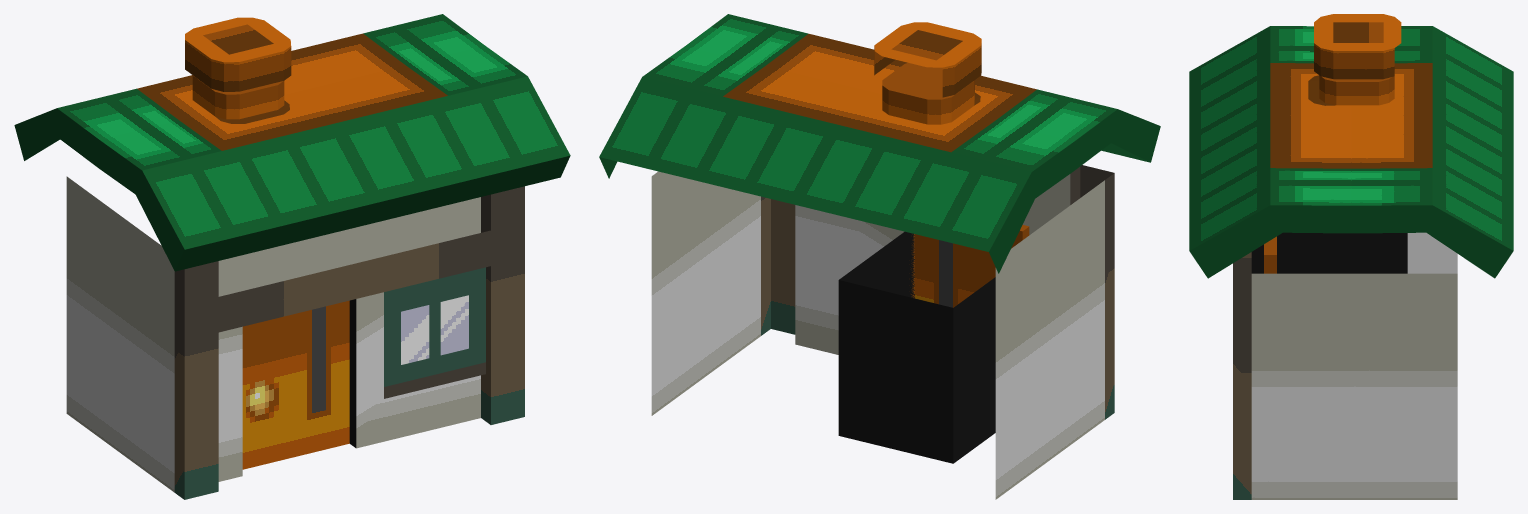
File: house.glb
3 views of the same model, side by side, from view 1: azimuth 30°, elevation 25°; view 2: azimuth 150°, elevation 25°; view 3: azimuth 270°, elevation 25° (orthographic). The views are drawn at different scales.
Visible parts, largest first — view 1: house; view 2: house; view 3: house.
Boxes of the visible parts, x1,y1,x2,y2 form: house: (14, 14, 570, 499); house: (599, 14, 1160, 499); house: (1189, 14, 1513, 499).
Bounding box in the file's own units: 4.25 × 4.03 × 3.25.
4 materials, 4 textured.
